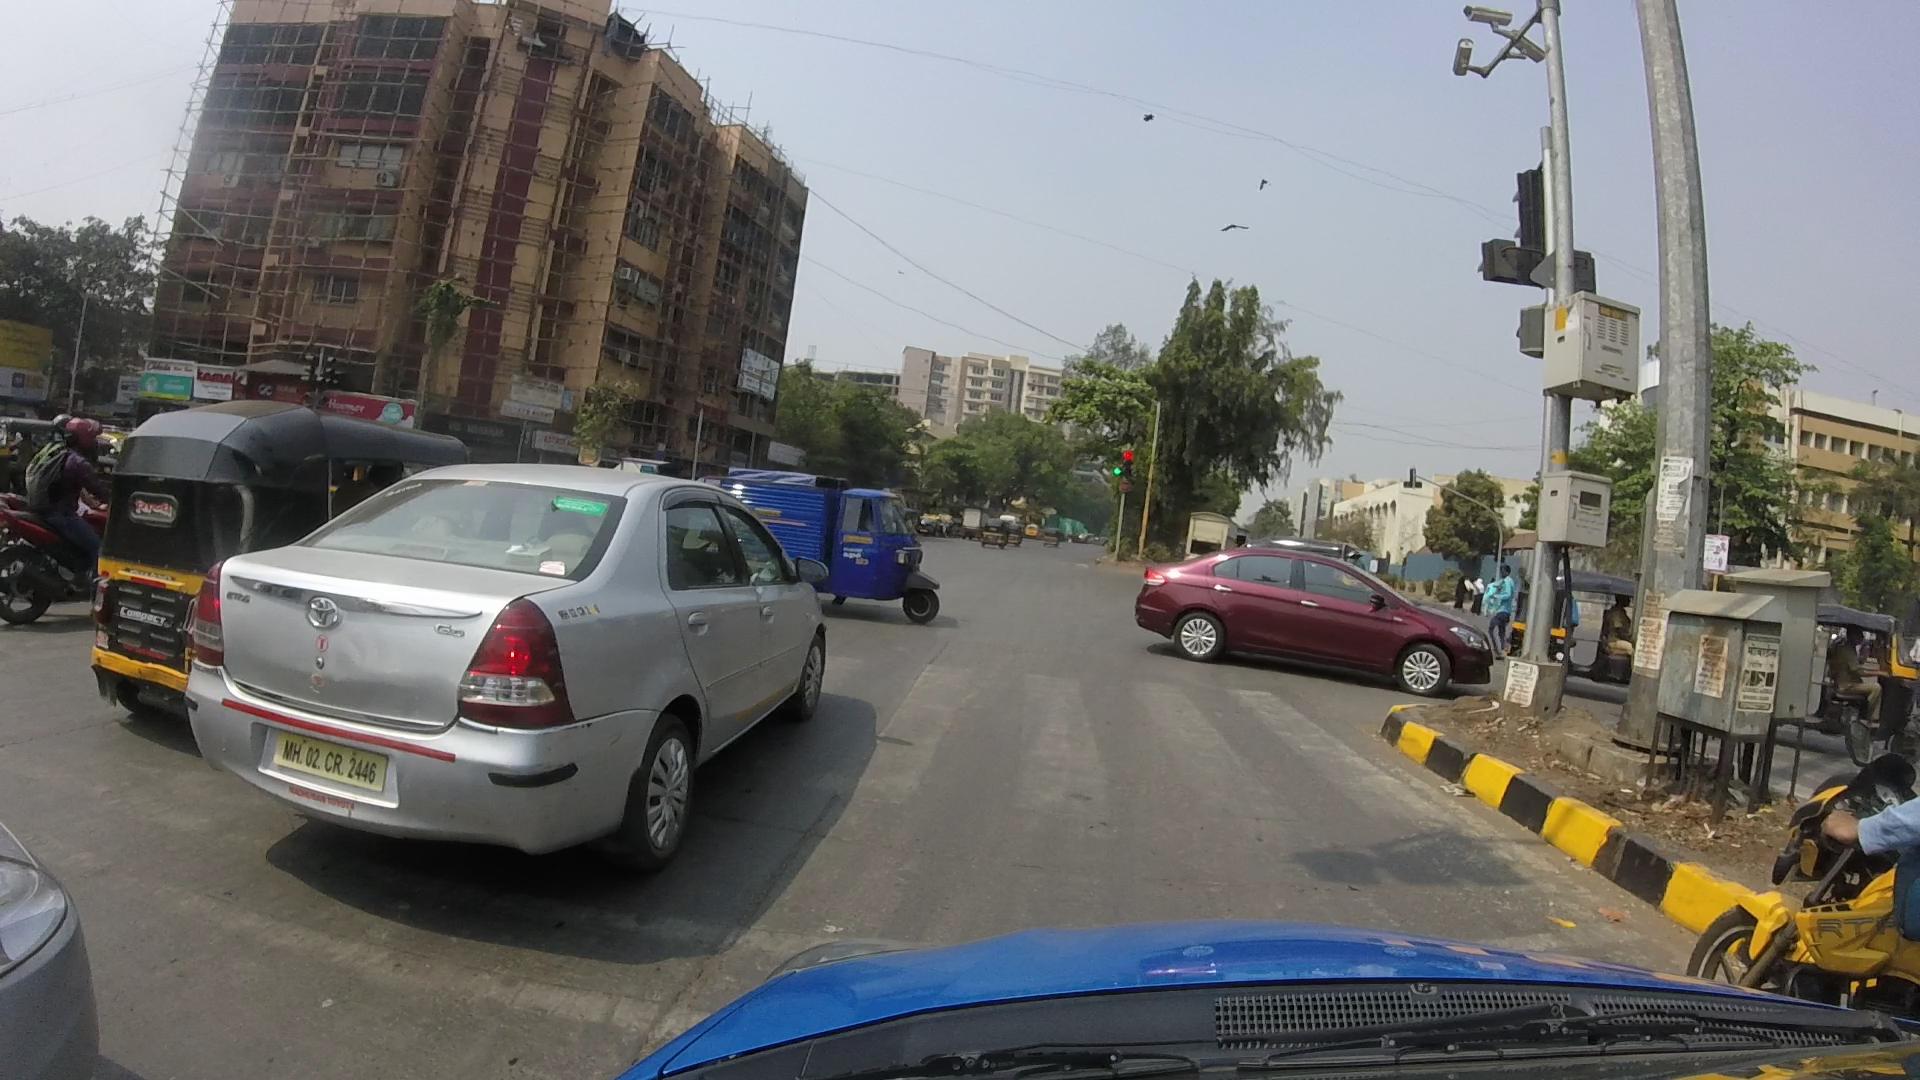bike/scooter: (1688, 737, 1920, 990), (4, 398, 115, 622)
car: (210, 464, 837, 866), (1129, 516, 1501, 723), (1, 816, 113, 1080)
rickshaw: (90, 400, 458, 716), (1510, 568, 1640, 676), (1811, 597, 1919, 725)
truck: (735, 458, 951, 618)
